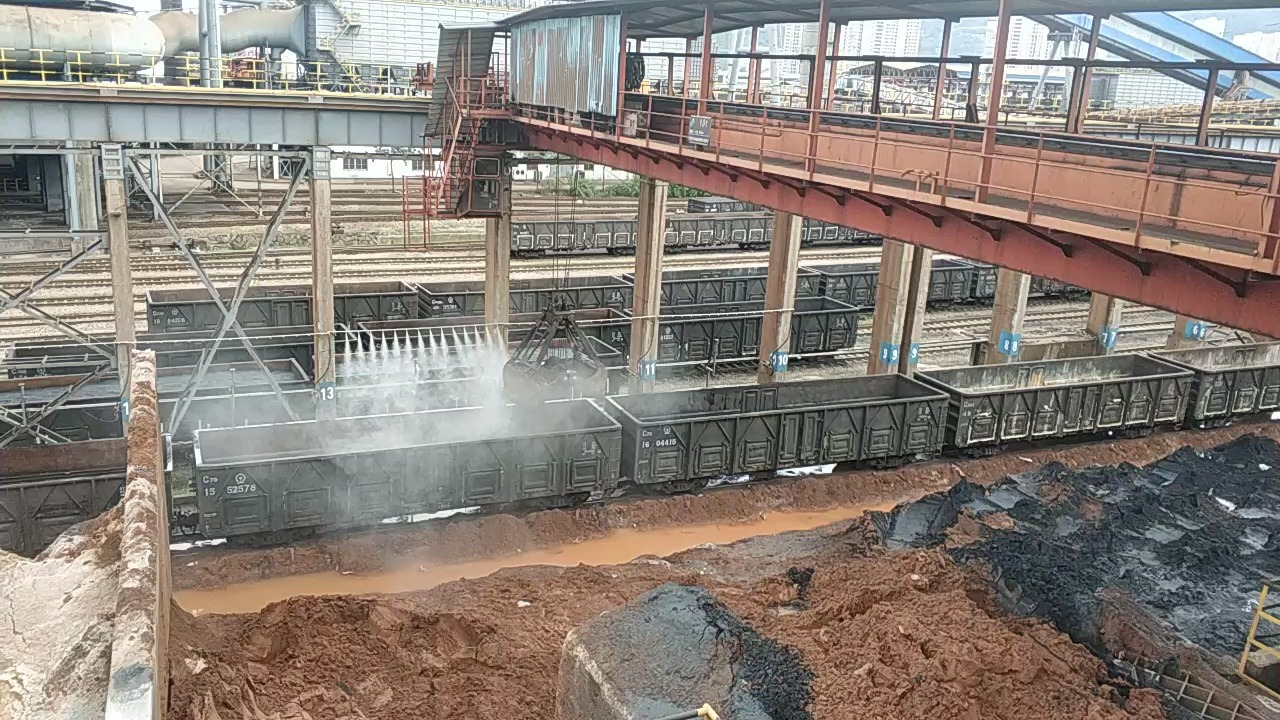dust: (133, 342, 690, 482)
grab: (499, 298, 612, 414)
